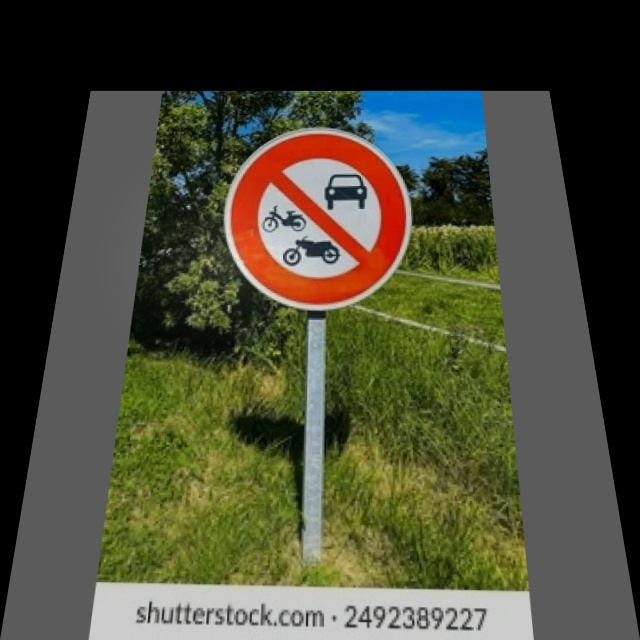All_Motor_Vehicles_Prohibited: (215, 126, 417, 313)
